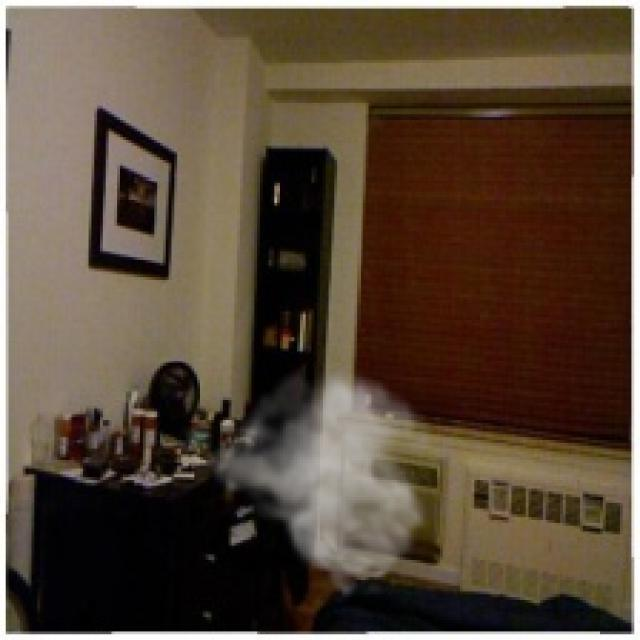Smoke: (197, 363, 449, 600)
